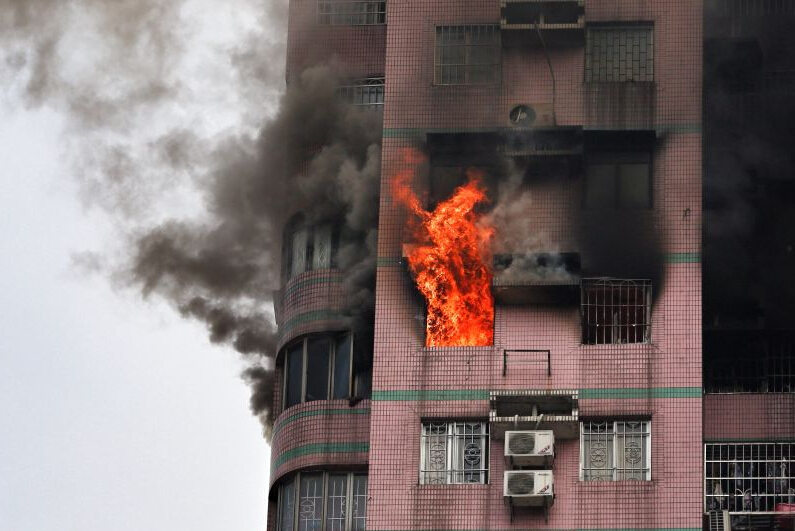fire: (380, 152, 506, 347)
